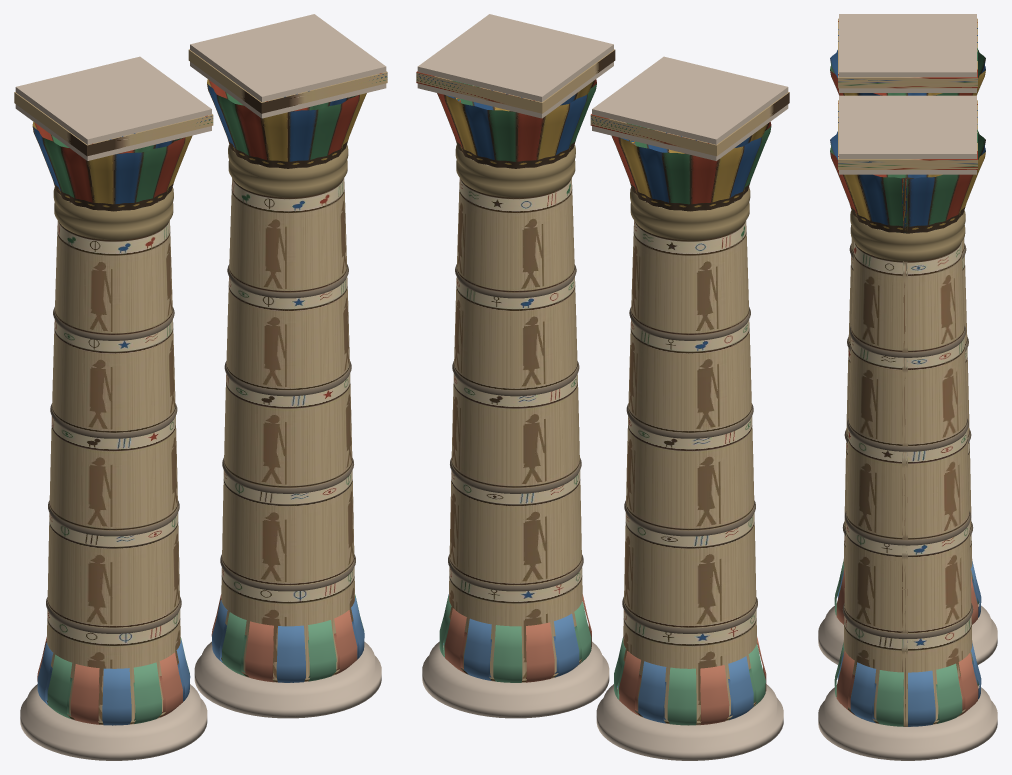
3 views of the same model, side by side, from view 1: azimuth 30°, elevation 25°; view 2: azimuth 150°, elevation 25°; view 3: azimuth 270°, elevation 25° (orthographic). The views are drawn at different scales.
Parts seen in each view (by area): view 1: Shaft_L, RegisterRing1_L, Petals0_0_L, Capital_L, Plinth_L, Necking_L, AbacusBand_L; view 2: Shaft_L, RegisterRing1_L, Petals0_0_L, Capital_L, Plinth_L, Necking_L, AbacusBand_L; view 3: Shaft_L, RegisterRing1_L, Plinth_L, Petals0_0_L, Capital_L, AbacusBand_L, Necking_L.
Boxes of the visible parts, x1=… form: Shaft_L: x1=46, y1=159, x2=354, y2=725; RegisterRing1_L: x1=15, y1=14, x2=386, y2=633; Petals0_0_L: x1=37, y1=594, x2=364, y2=725; Capital_L: x1=32, y1=79, x2=366, y2=211; Plinth_L: x1=20, y1=641, x2=381, y2=760; Necking_L: x1=53, y1=144, x2=348, y2=240; AbacusBand_L: x1=14, y1=49, x2=387, y2=156; Shaft_L: x1=449, y1=159, x2=757, y2=725; RegisterRing1_L: x1=417, y1=14, x2=788, y2=633; Petals0_0_L: x1=439, y1=594, x2=766, y2=725; Capital_L: x1=437, y1=79, x2=771, y2=211; Plinth_L: x1=422, y1=641, x2=783, y2=760; Necking_L: x1=455, y1=144, x2=750, y2=240; AbacusBand_L: x1=416, y1=49, x2=789, y2=156; Shaft_L: x1=843, y1=224, x2=972, y2=726; RegisterRing1_L: x1=839, y1=14, x2=976, y2=638; Plinth_L: x1=818, y1=604, x2=997, y2=760; Petals0_0_L: x1=834, y1=561, x2=981, y2=726; Capital_L: x1=830, y1=50, x2=985, y2=233; AbacusBand_L: x1=838, y1=18, x2=977, y2=169; Necking_L: x1=850, y1=210, x2=965, y2=261.
Size of the model in its own units: 3.57 by 6.32 by 1.72.
7 materials, 7 textured.
